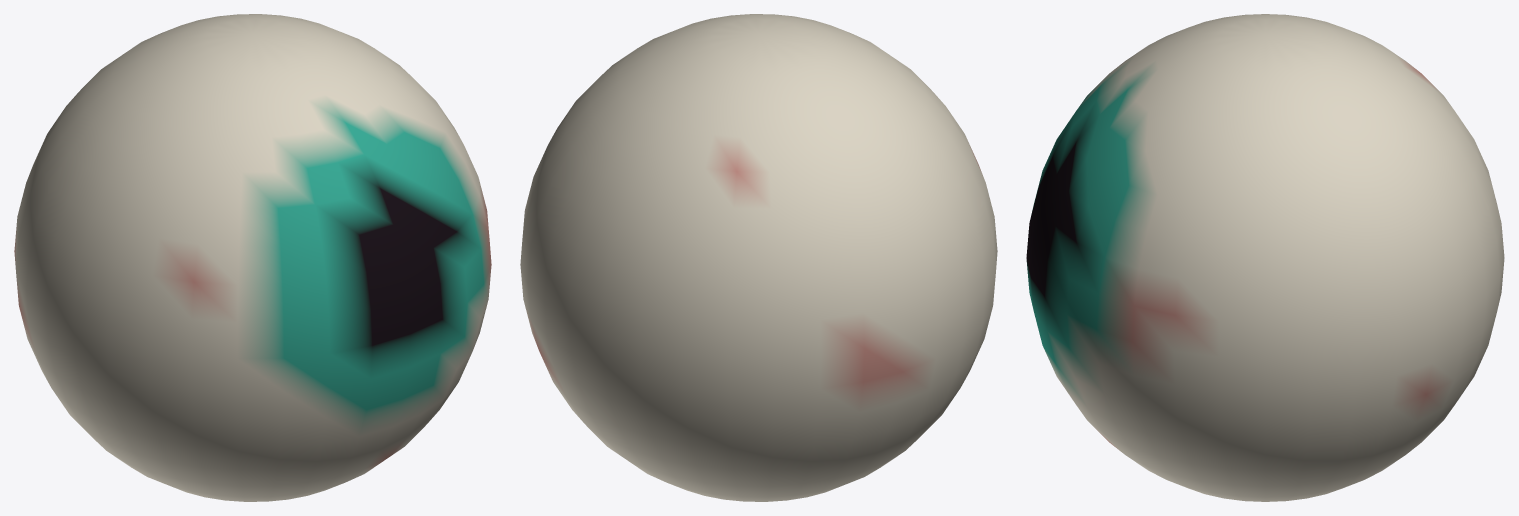
File: one_eye.glb
3 views of the same model, side by side, from view 1: azimuth 30°, elevation 25°; view 2: azimuth 150°, elevation 25°; view 3: azimuth 270°, elevation 25° (orthographic).
Visible parts, largest first — view 1: one_eye; view 2: one_eye; view 3: one_eye.
Part boxes in pixels (x1,y1,x2,y2): one_eye: (14, 14, 491, 501); one_eye: (520, 14, 997, 501); one_eye: (1026, 14, 1504, 501).
Bounding box in the file's own units: 0.1342 × 0.1385 × 0.1342.
